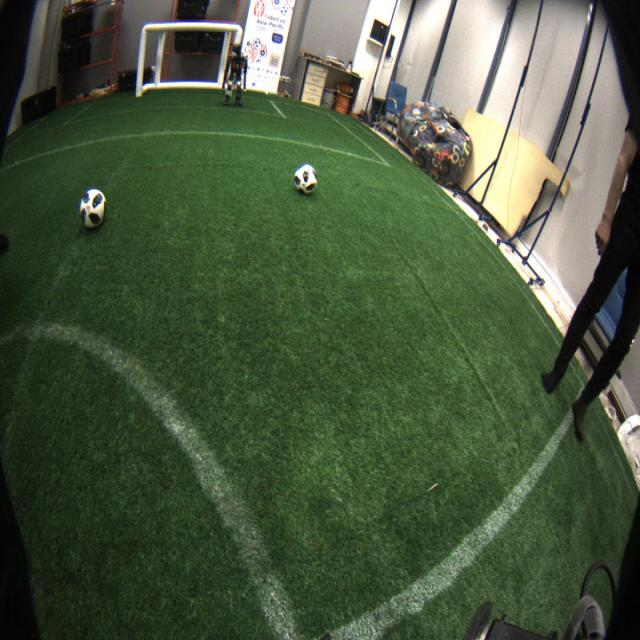ball: (80, 190, 106, 228), (295, 164, 317, 196)
goalpost: (225, 25, 246, 95), (133, 25, 148, 98)
